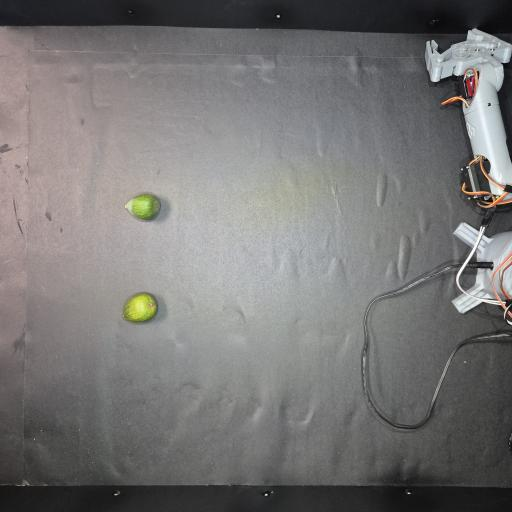higo: (122, 292, 158, 322), (125, 194, 160, 220)
